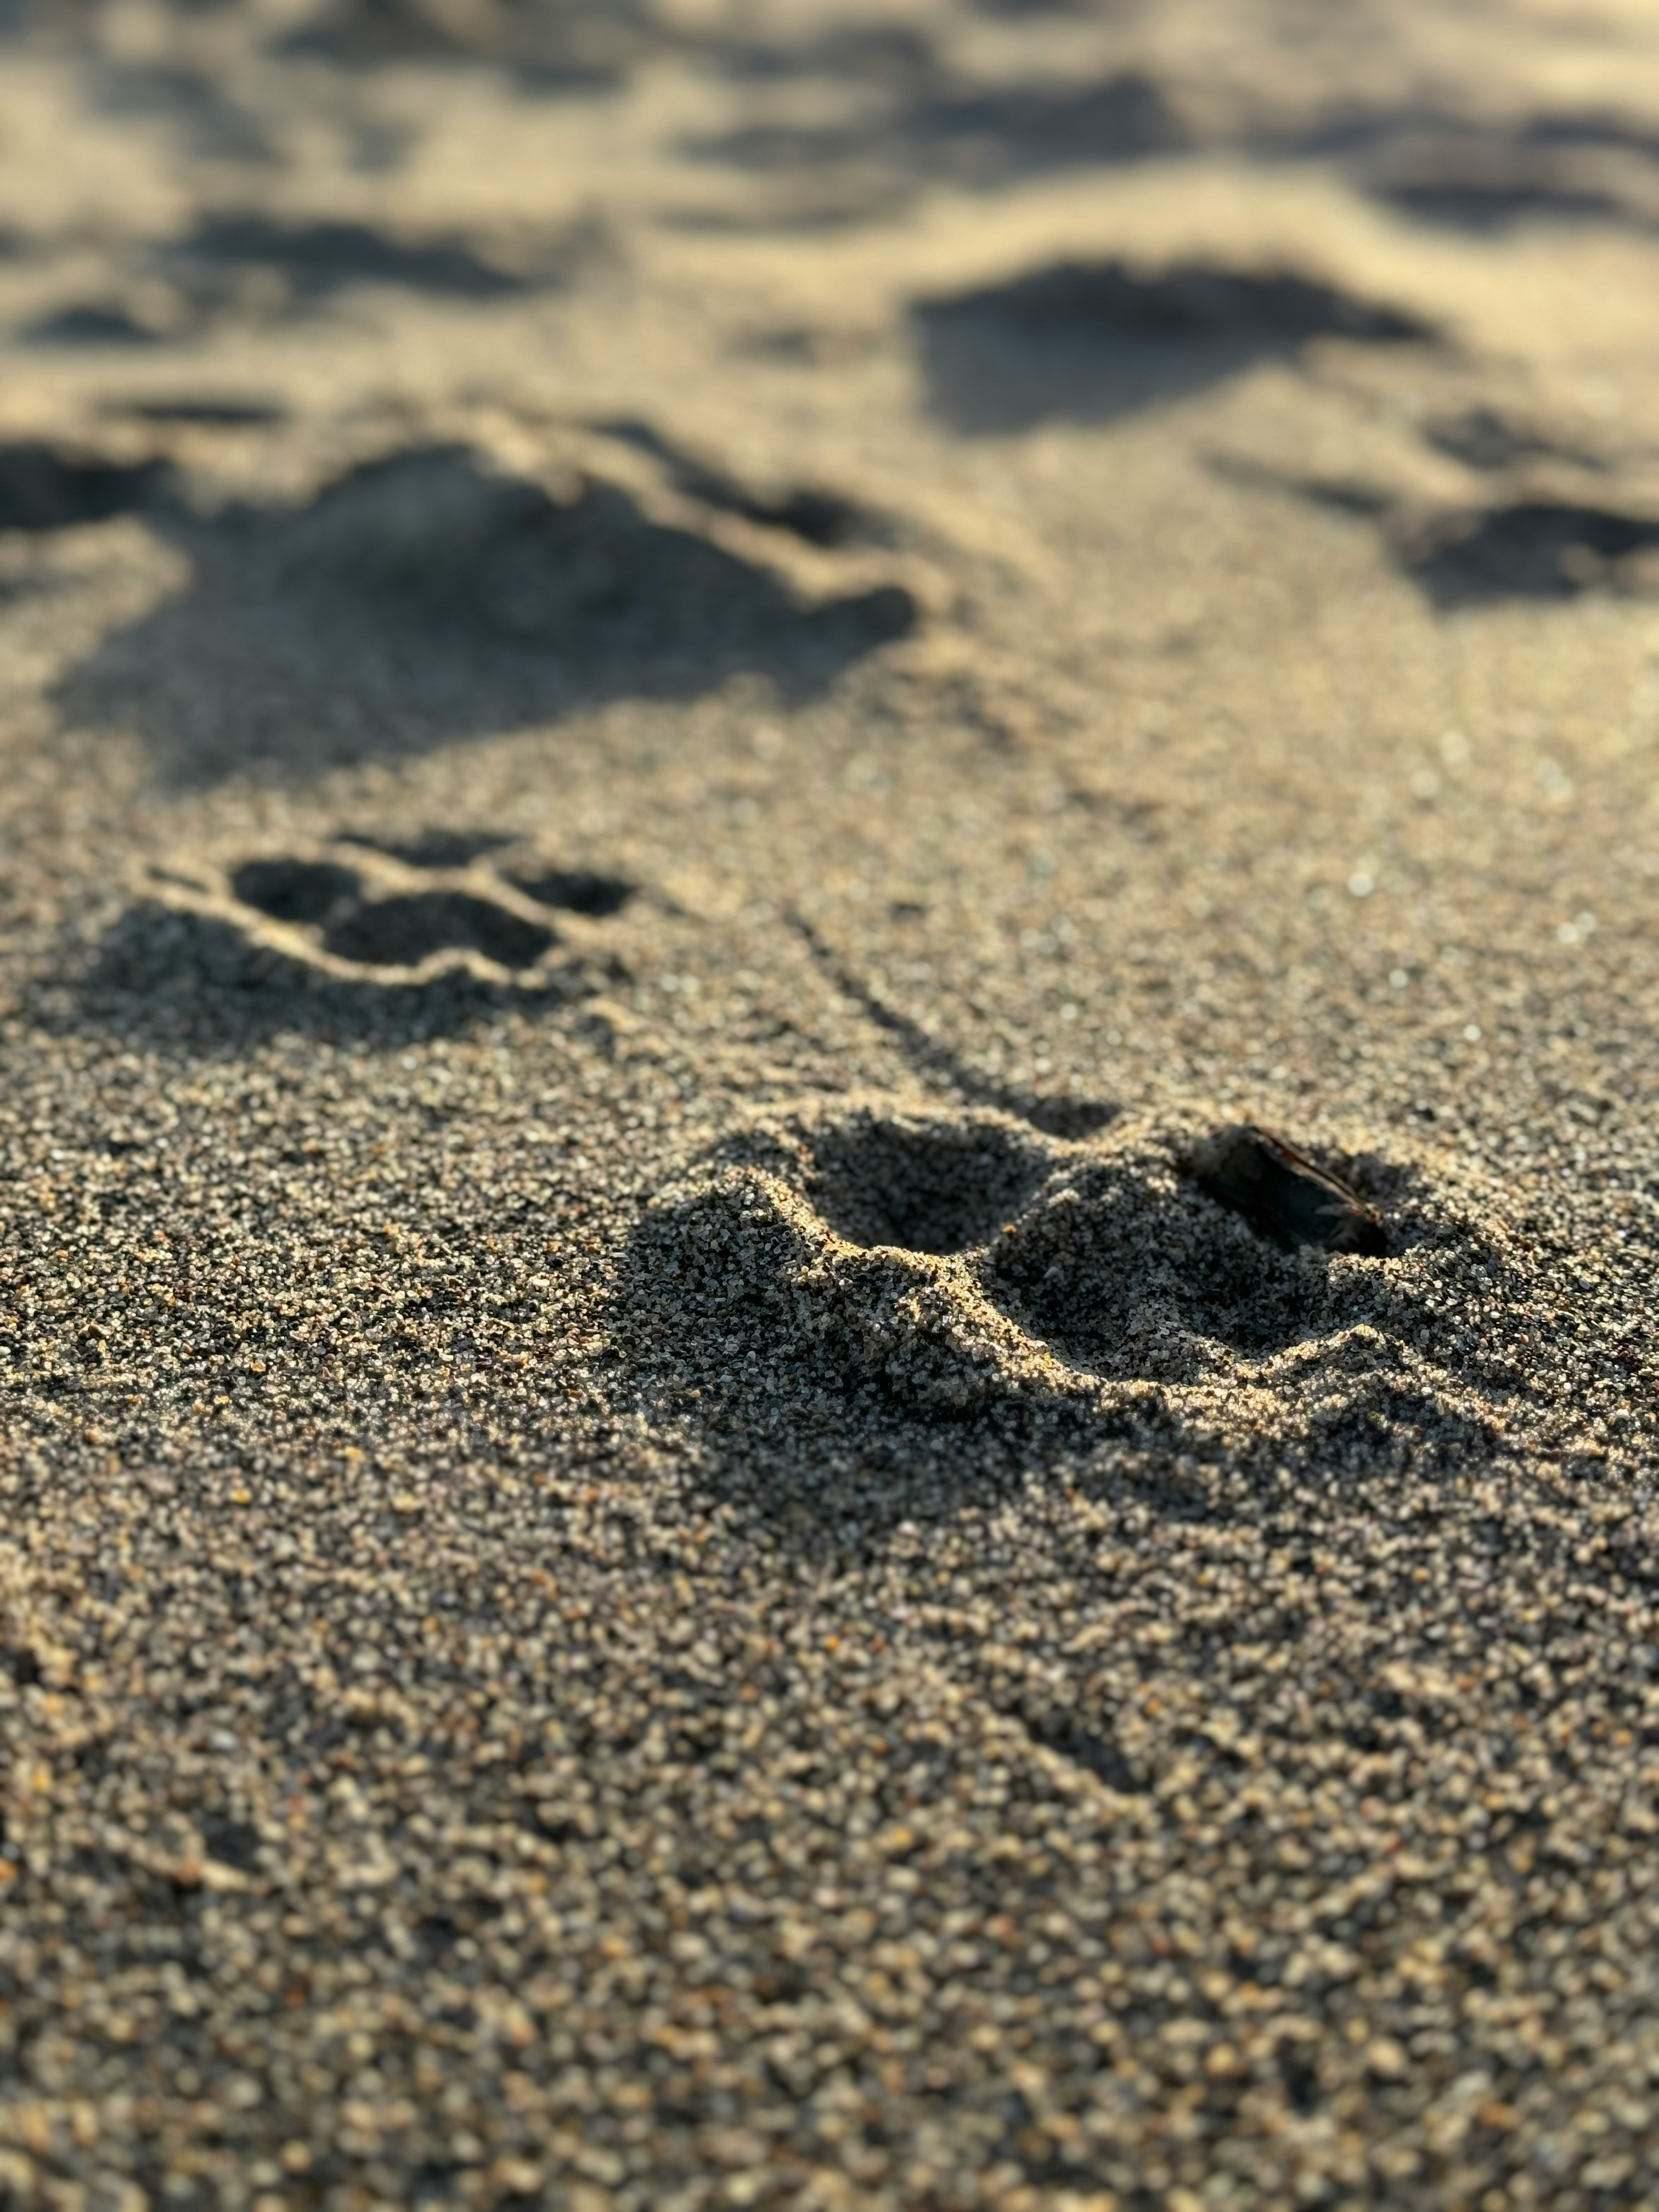chien: (638, 1047, 1432, 1486)
